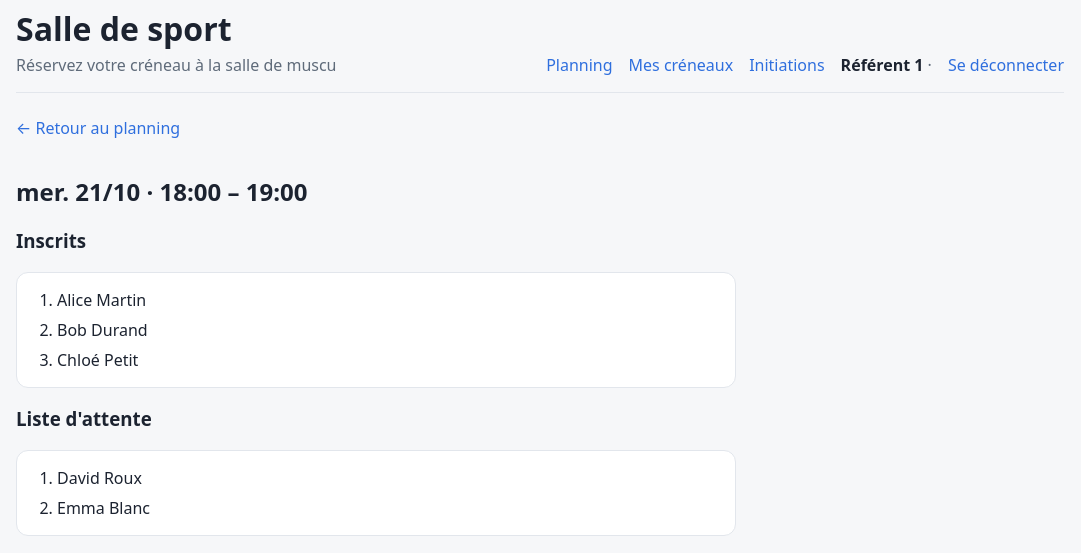
Scenario: ReferentSlotPage › never shows the people of the slot seen before, at another hour of the day
This screenshot has width=1081, height=553.
expect the list item "Alice Martin" is shown: met, box 57,288 -> 146,310
Click the link "← Retour au planning". click: point(98, 128)
box: 16,117 -> 180,139
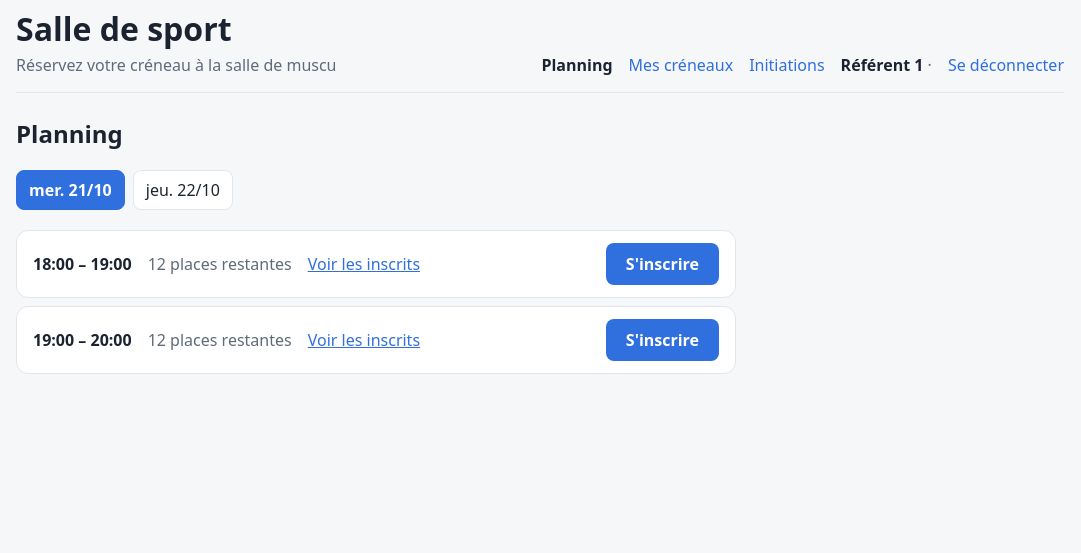
Click the link "Voir les inscrits" in the row of "19:00 – 20:00". click: point(364, 340)
box: 308,329 -> 420,351
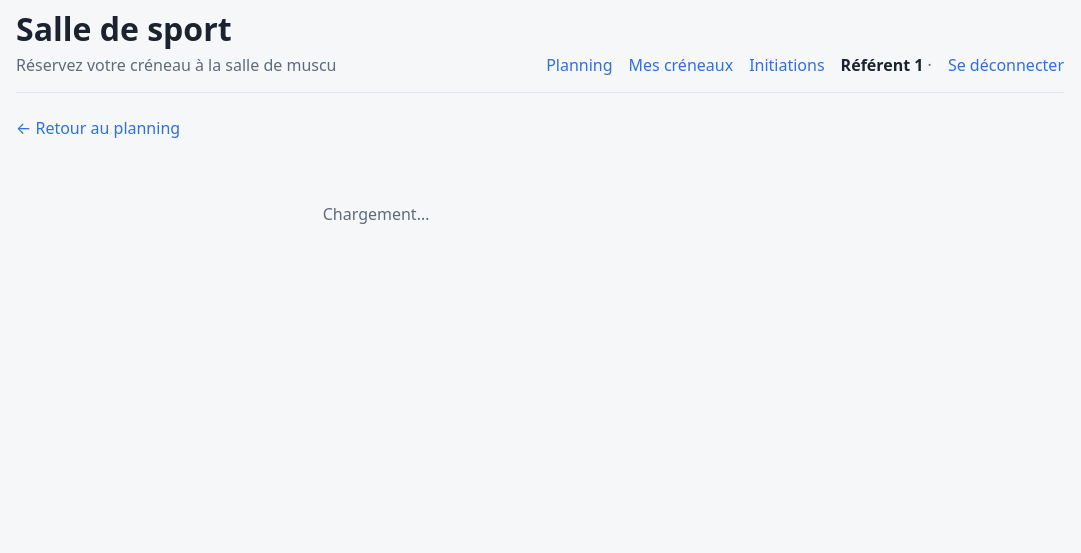
expect the list item "Alice Martin" is not shown: met
expect the message reads "Chargement…": met, box 323,203 -> 429,225
